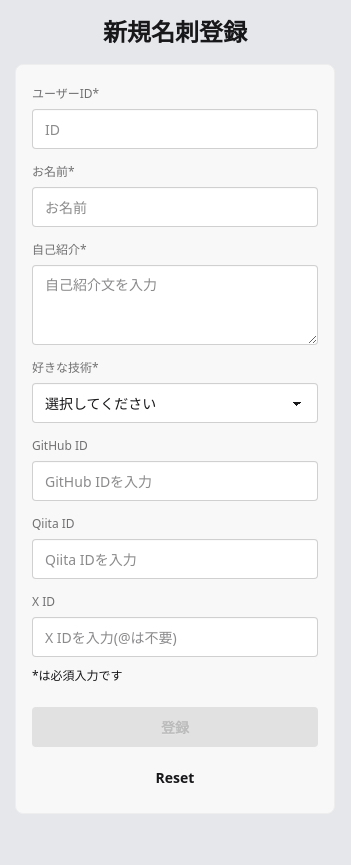
新規登録ページ › xIdに日本語を入力するとエラーが表示される
The image size is (351, 865).
In the field with placeholder "X IDを入力(@は不要)": (175, 637) [32,617,318,657], type "あいうえお"
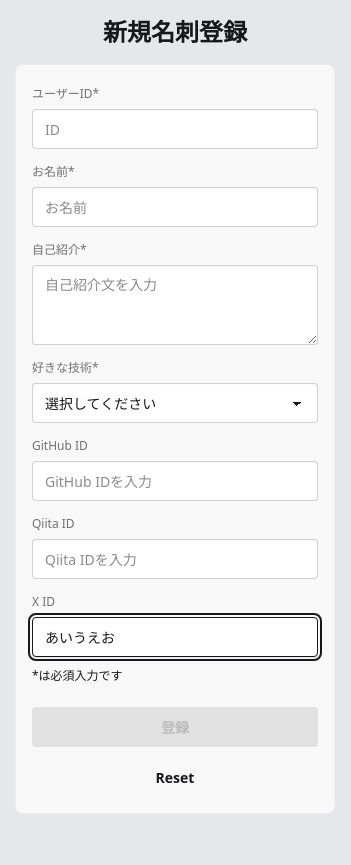
Press Tab
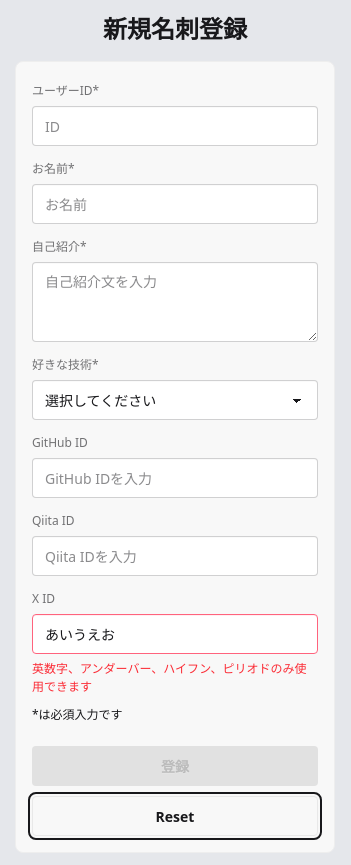
Expected: the text "英数字、アンダーバー、ハイフン、ピリオドのみ使用できます" is shown, [32,660,318,696]
